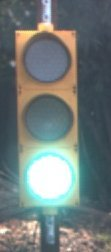Green: (5, 23, 90, 221)
